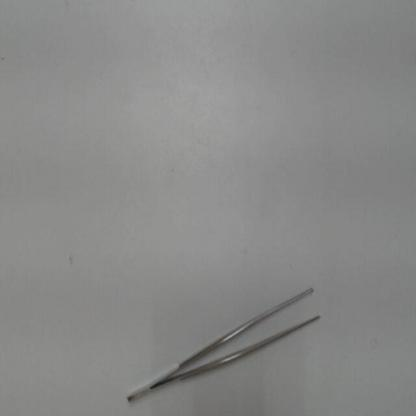Gillies Toothed Dissector: (118, 276, 330, 406)
